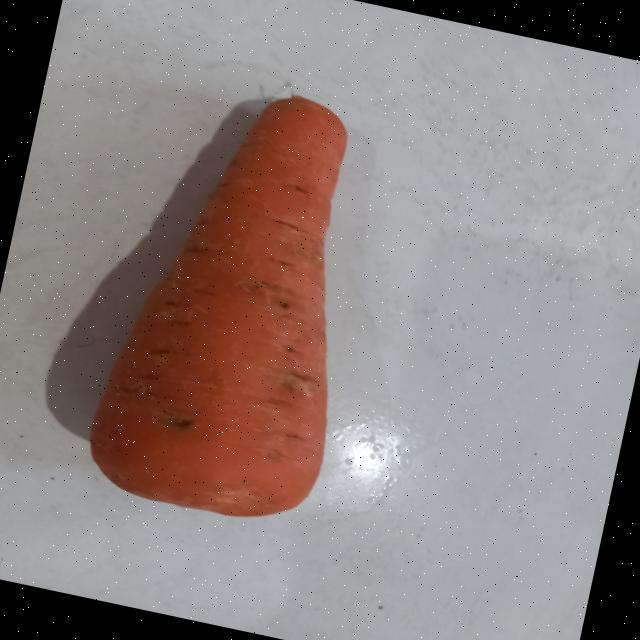carrot: (89, 96, 346, 516)
